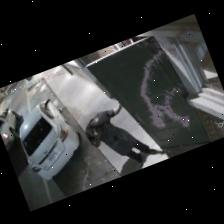person: (84, 104, 156, 167)
